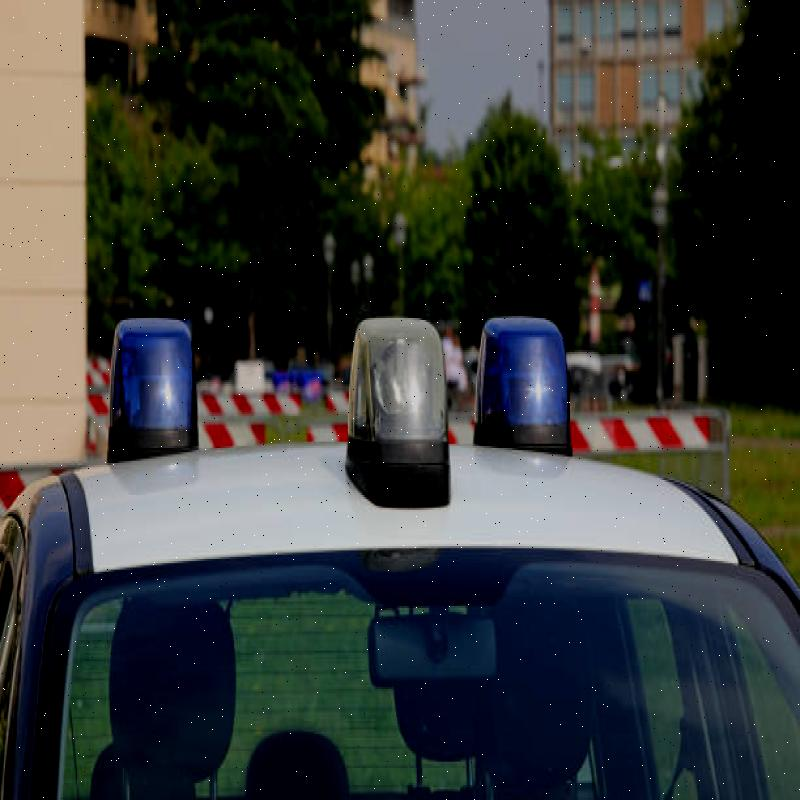AmbulanceSiren: (478, 302, 577, 475)
